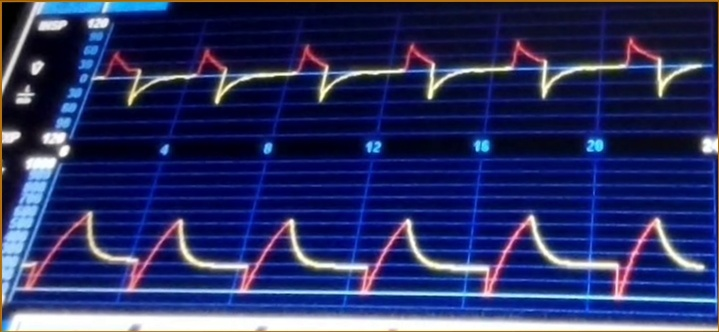Flow: (100, 31, 707, 128)
Leakage Volume: (33, 202, 707, 308)
